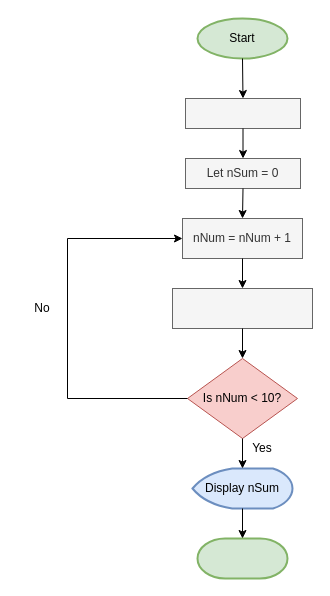
The diagram is 330 pixels wide and 596 high, and some of its shapes have lost their labels. Each missing label, with the centre of its shape:
End: point 242,558
Let nNum = 0: point 242,113
nSum = nSum + nNum: point 242,308
